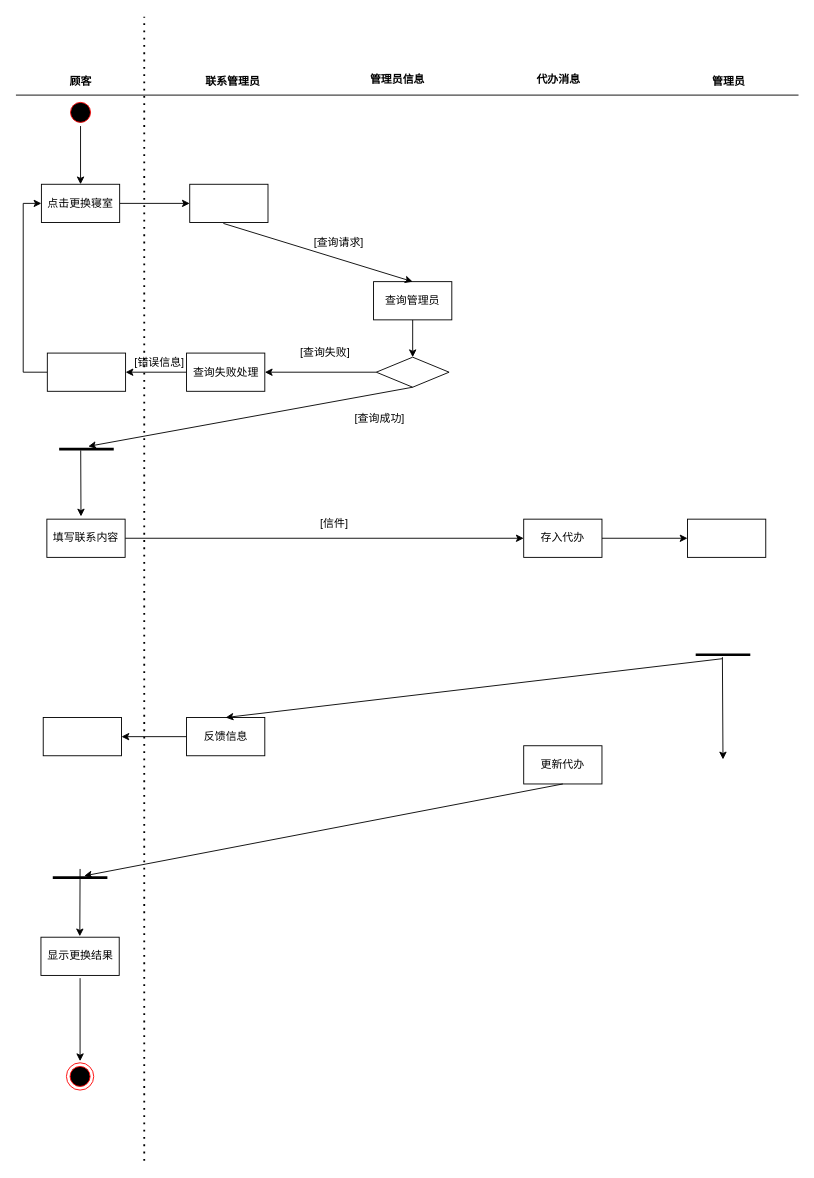
The diagram is 814 pixels wide and 1178 high, and some of its shapes have lost their labels. Here are the shapes that lost their labels. From the top down, the box of each, then its label:
(189, 183, 268, 222): 显示基本信息
(46, 352, 126, 391): 报错反馈
(687, 518, 766, 557): 通知管理员
(42, 717, 121, 756): 展示反馈
